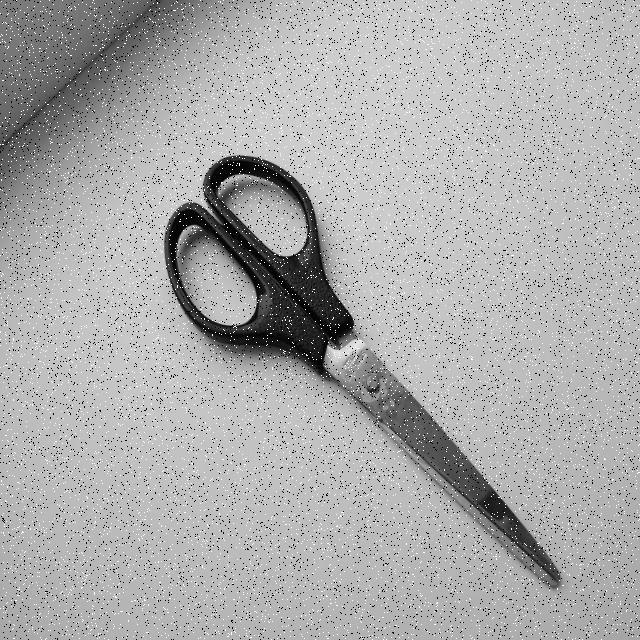scissors: (158, 148, 570, 606)
